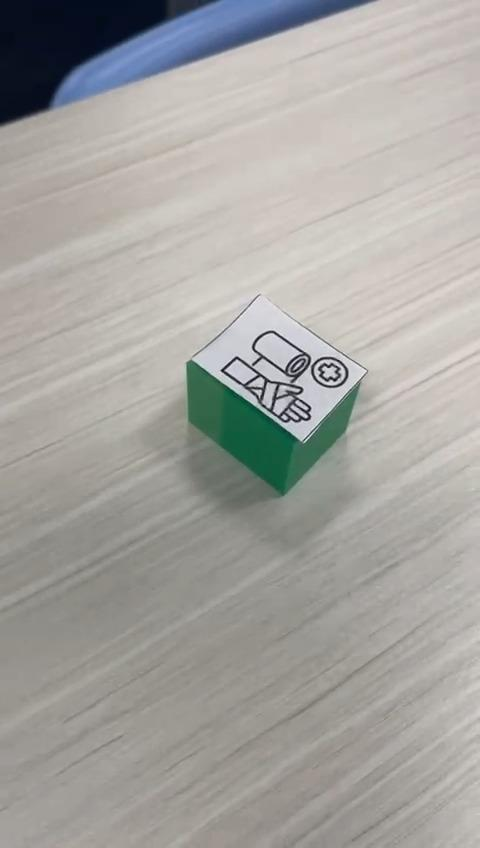Bandages: (187, 290, 370, 497)
